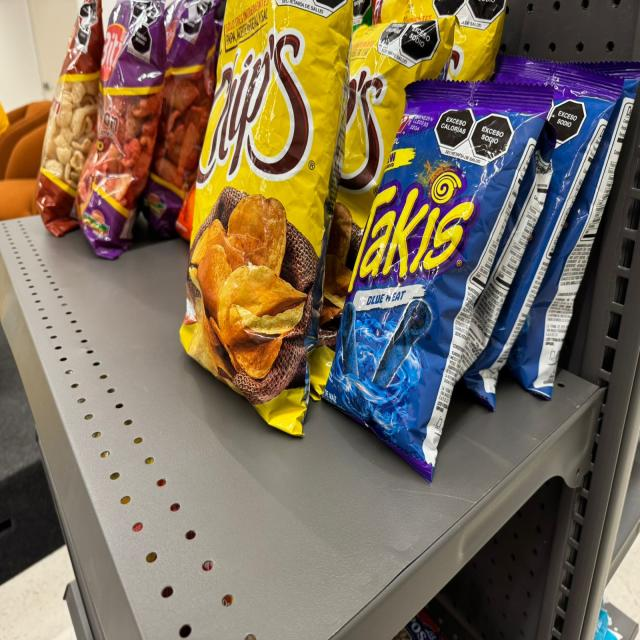Papas Chips Barcel 170 gr bolsa con sal: (313, 19, 459, 395), (379, 0, 504, 81)
Takis Blue 75g: (321, 89, 553, 482), (460, 61, 613, 407), (517, 52, 639, 400)
chicharrones de cerdo intenso: (79, 0, 159, 260), (141, 2, 220, 232)
